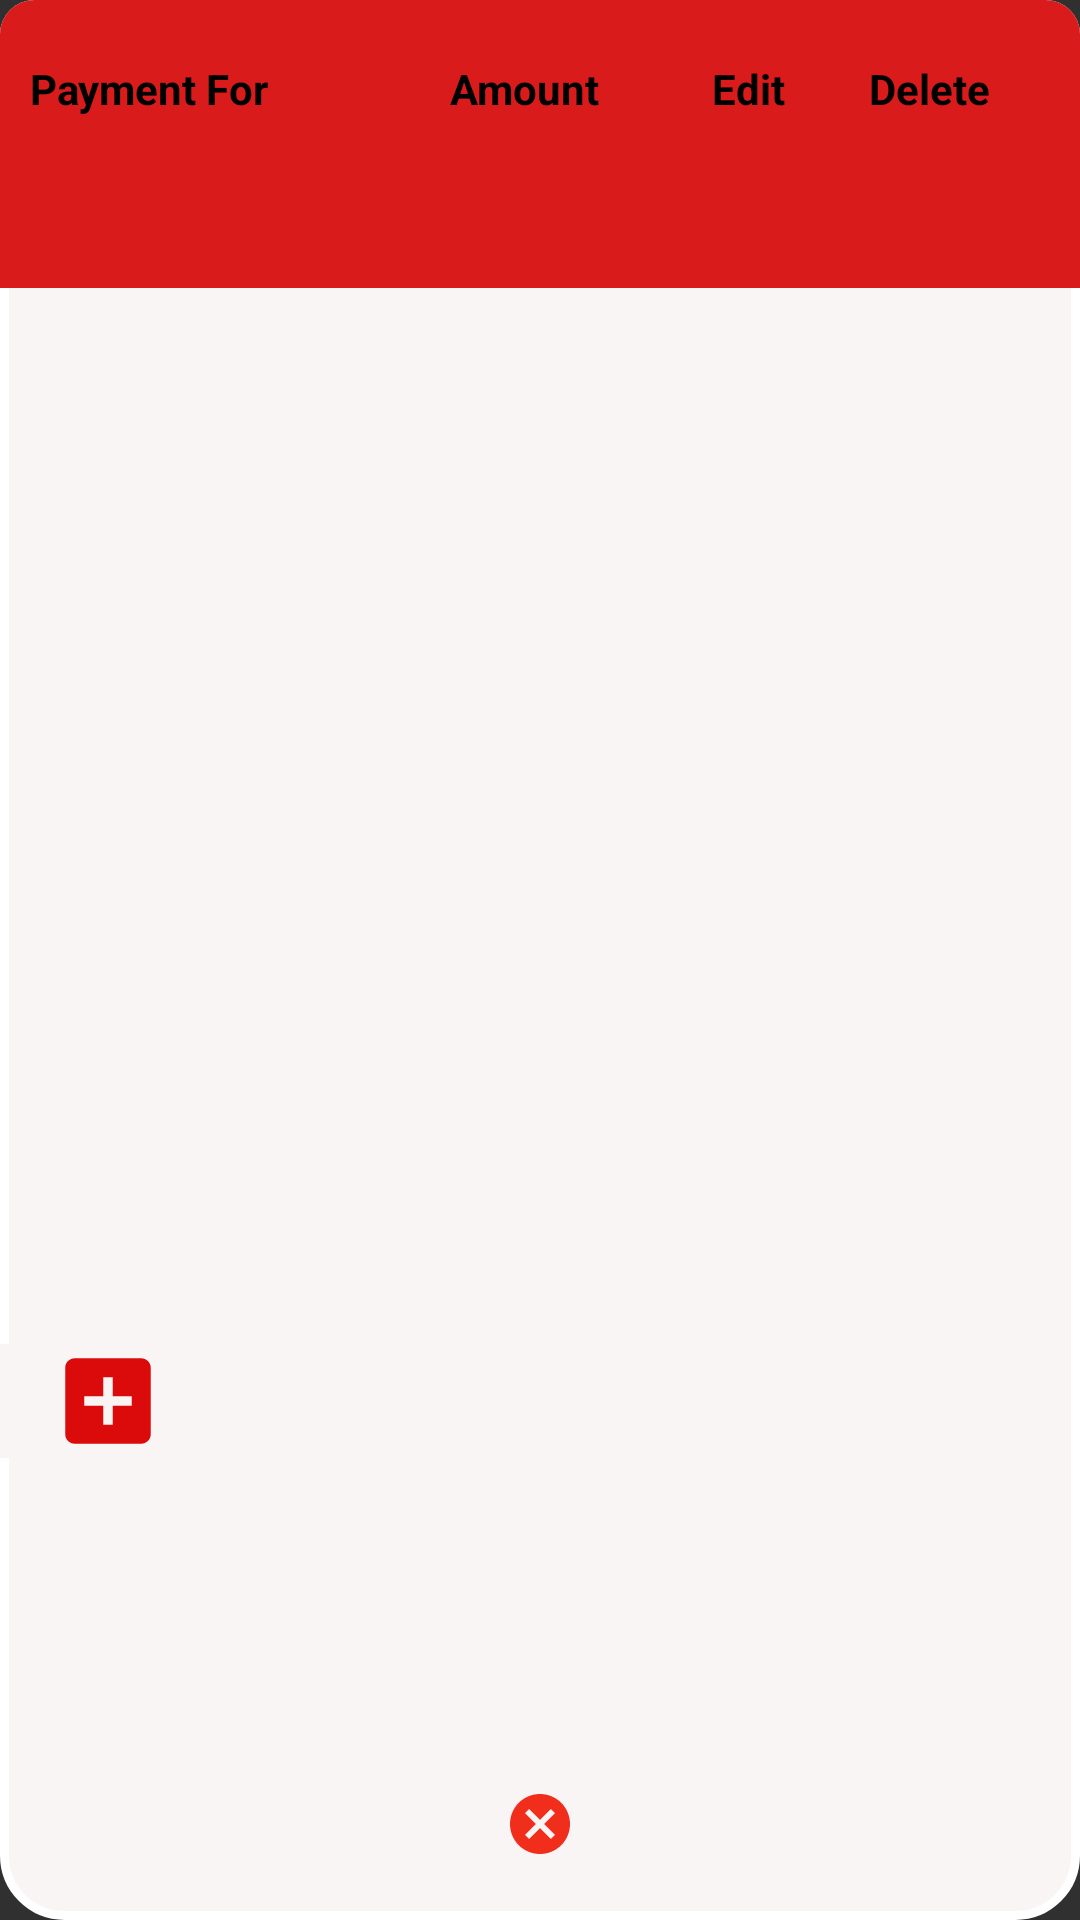

Icons on this 1080x1920 Android screen, each with its box as {"left": x1, "top": y1, "right": x2, "bottom": y2}:
add: {"left": 65, "top": 1358, "right": 151, "bottom": 1444}
cancel: {"left": 510, "top": 1794, "right": 570, "bottom": 1854}
